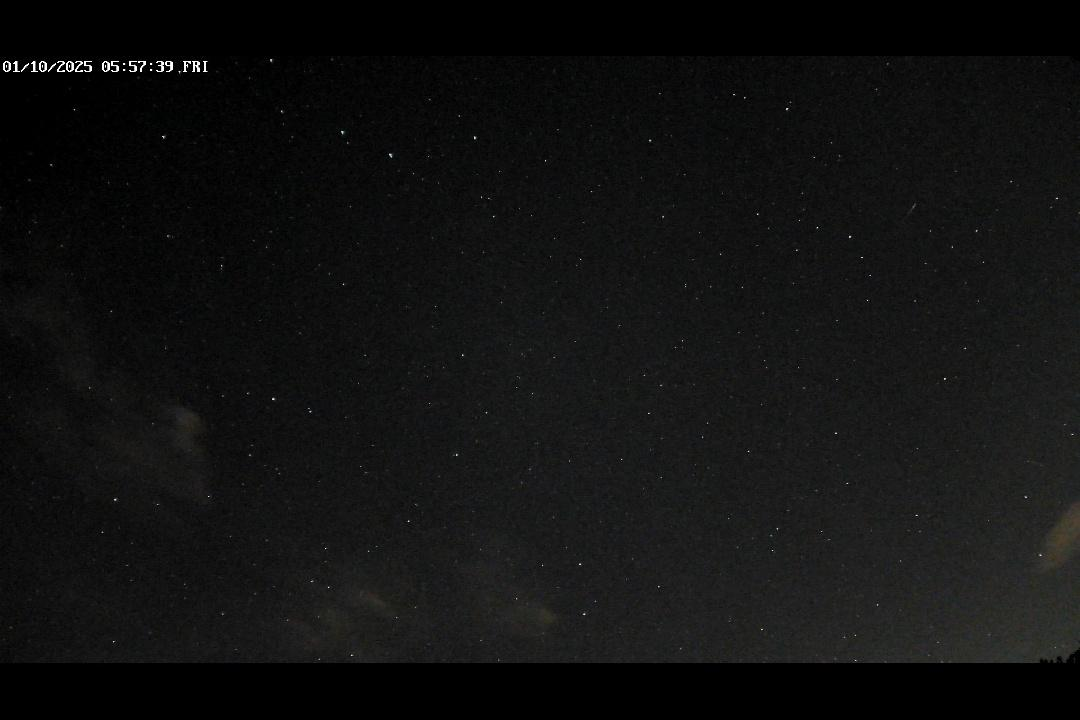Plane: (895, 192, 927, 229)
